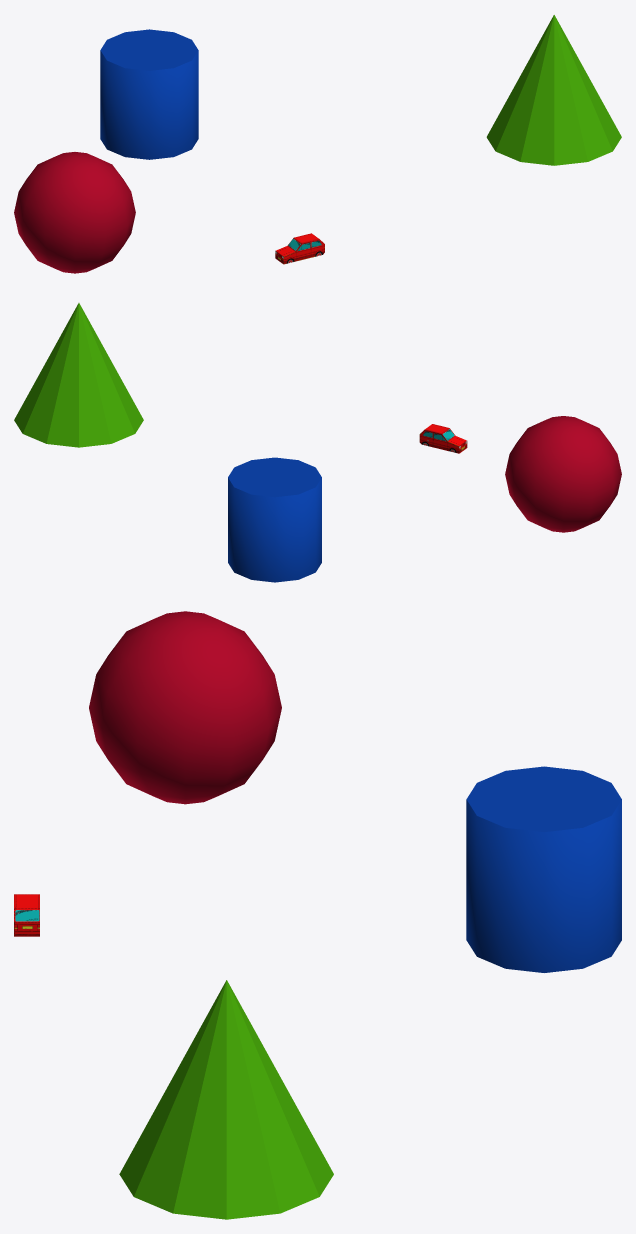
File: paperCity2012ePa - Copia Diff.dae
3 renders of one model, top to bottom at view 1: azimuth 30°, elevation 25°; view 2: azimuth 150°, elevation 25°; view 3: azimuth 270°, elevation 25°, orthographic. The views are drawn at different scales.
Parts seen in each view (by area): view 1: Cylinder, Cone, Cube_002, Cube; view 2: Cylinder, Cone, Cube_002, Cube; view 3: Cylinder, Cone, Cube_002, Cube.
Boxes of the visible parts, bbox=[...] form: Cylinder: bbox=[100, 29, 198, 159]; Cone: bbox=[486, 15, 621, 165]; Cube_002: bbox=[14, 152, 135, 273]; Cube: bbox=[275, 233, 324, 264]; Cylinder: bbox=[228, 457, 321, 582]; Cone: bbox=[14, 303, 143, 447]; Cube_002: bbox=[505, 416, 621, 532]; Cube: bbox=[419, 424, 467, 453]; Cylinder: bbox=[466, 766, 621, 972]; Cone: bbox=[119, 980, 333, 1219]; Cube_002: bbox=[89, 611, 281, 804]; Cube: bbox=[14, 894, 39, 936].
Size of what is drawn, in the model's own units: 73.04 by 40.2 by 14.32.
